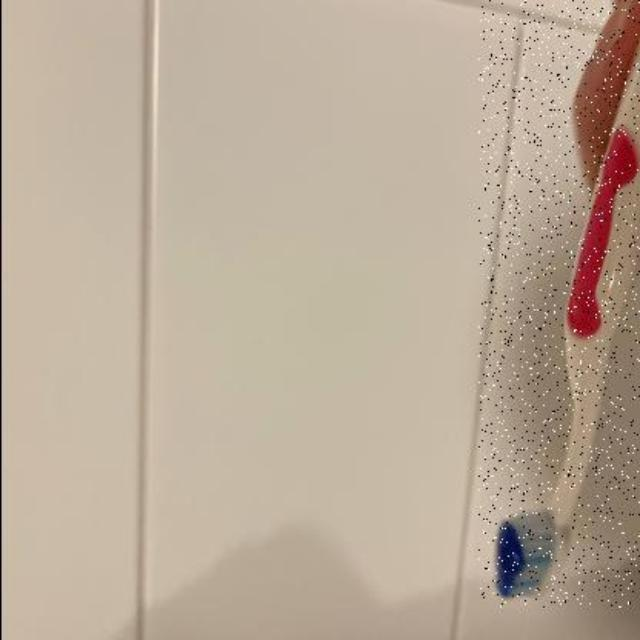toothbrush: (476, 0, 640, 608)
